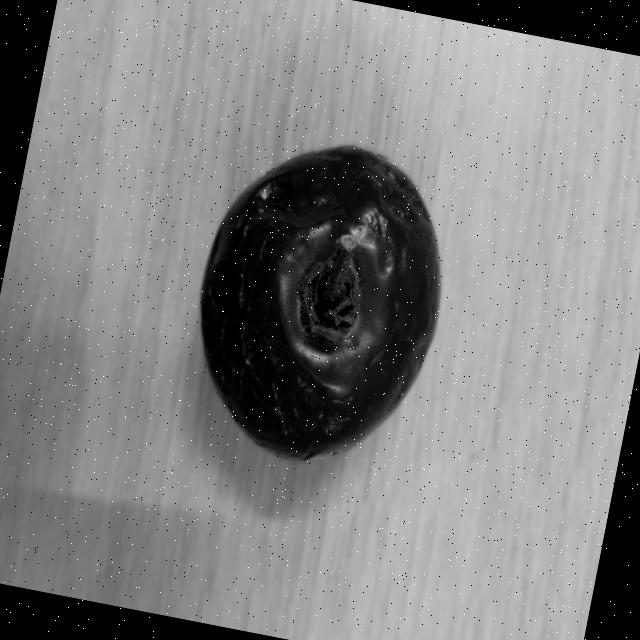Rotten: (169, 120, 468, 482)
